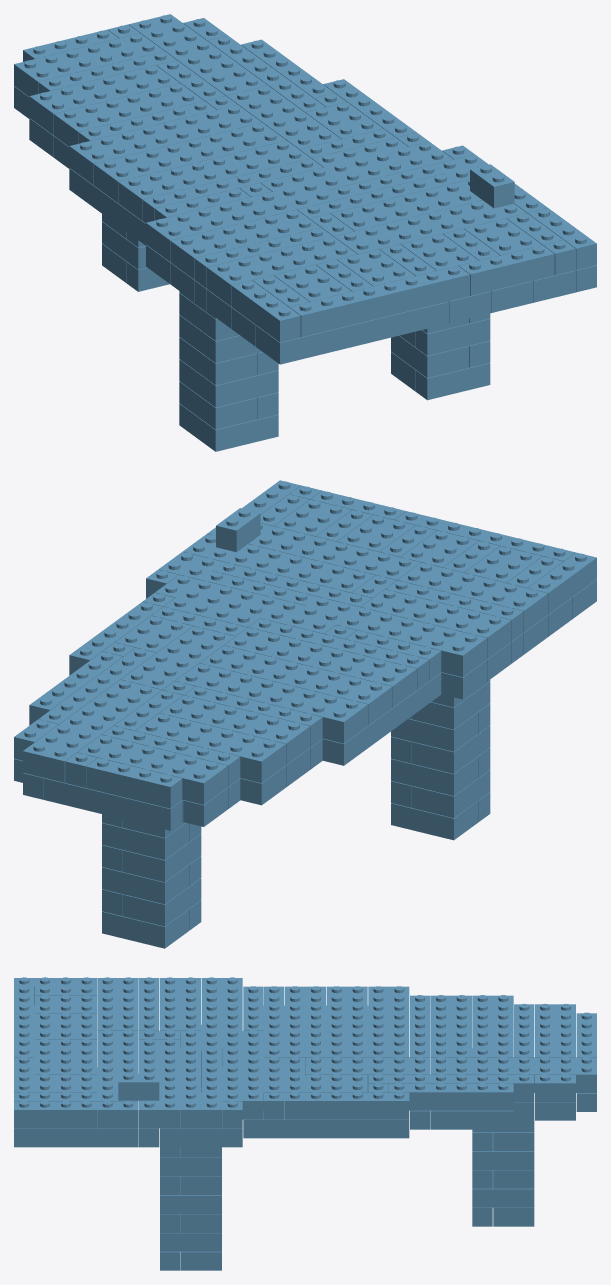
Rendered from collab_piano-L5V3_raw.glb.
The picture shows the model from 3 angles, top to bottom: view 1: azimuth 30°, elevation 25°; view 2: azimuth 150°, elevation 25°; view 3: azimuth 270°, elevation 25°; orthographic projection. The views are drawn at different scales.
Size of the model in its own units: 14.98 by 10.13 by 27.98.
